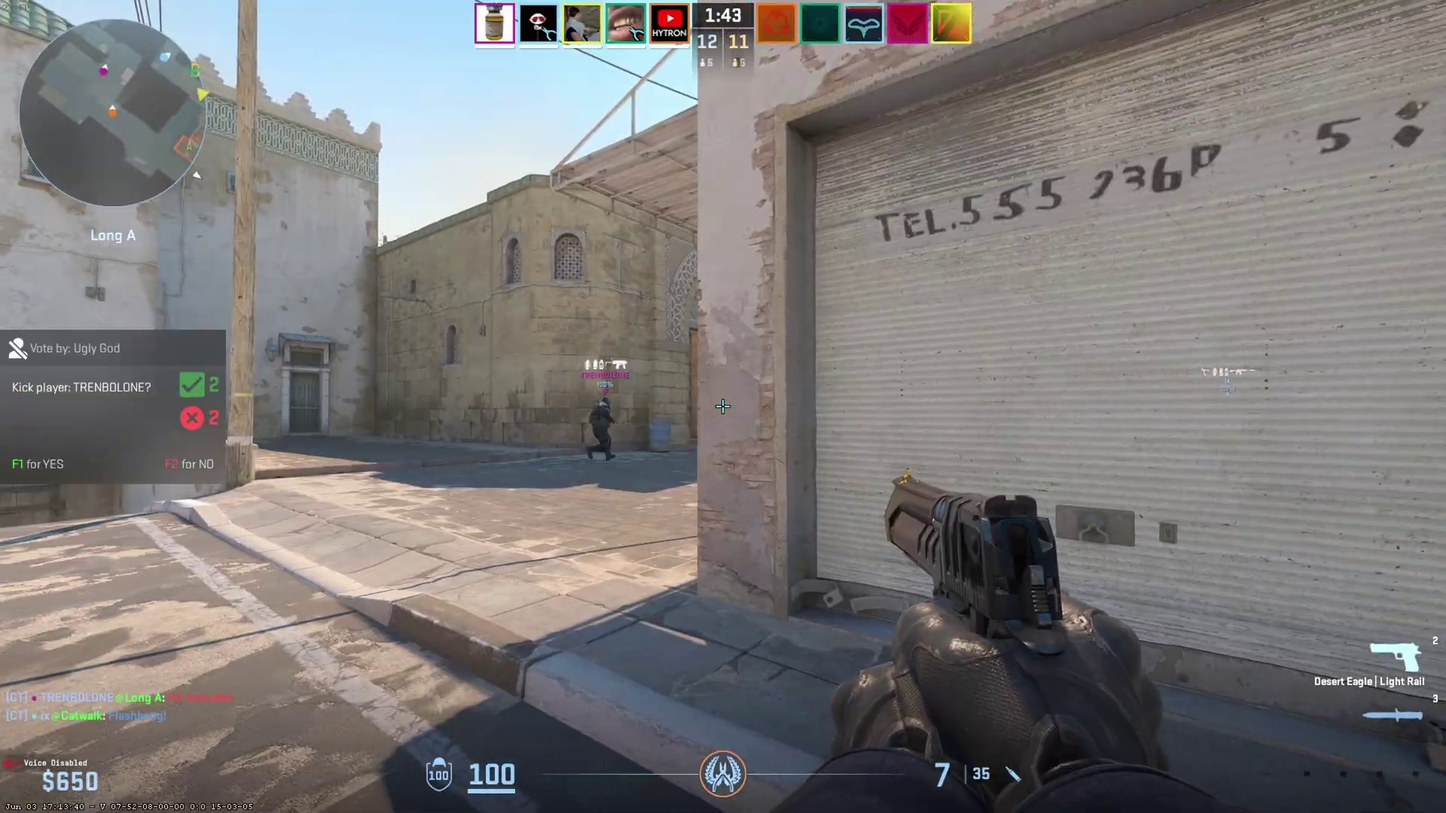CT: (587, 397, 615, 460)
